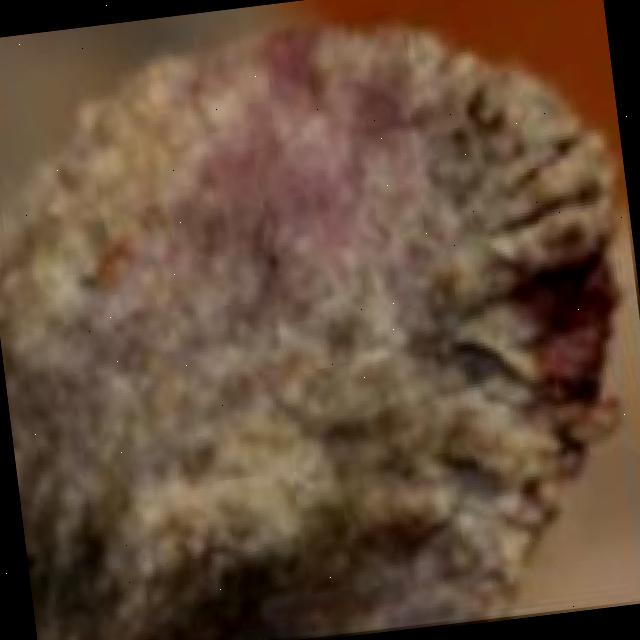cat-dermatitis: (49, 51, 436, 460), (530, 273, 612, 398)
